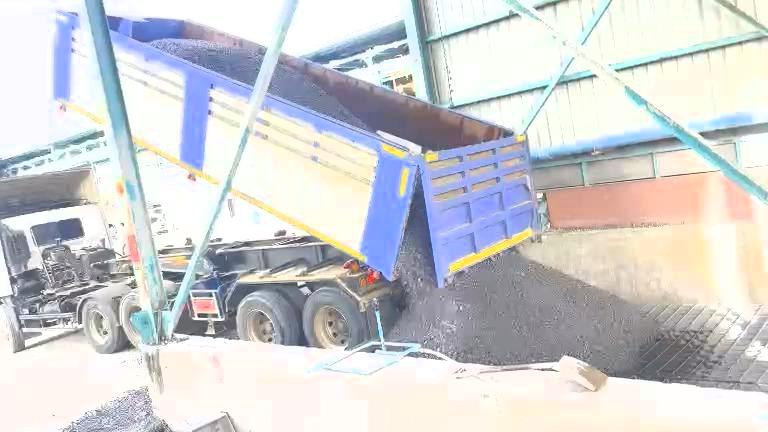gravel: (390, 198, 656, 373), (270, 63, 370, 129), (150, 39, 264, 84), (62, 387, 169, 431)
